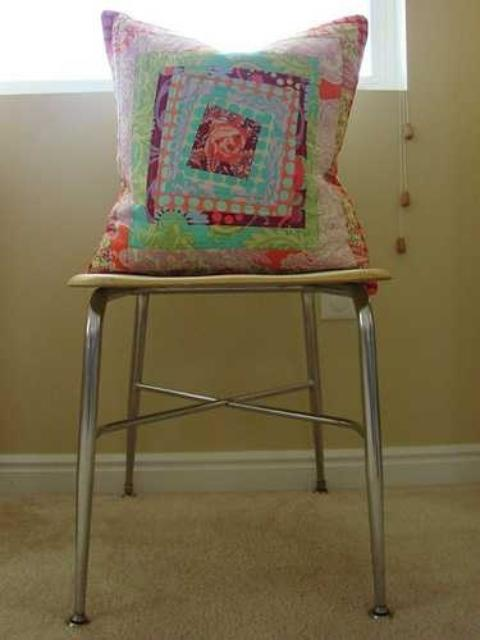pillow: (86, 9, 370, 275)
